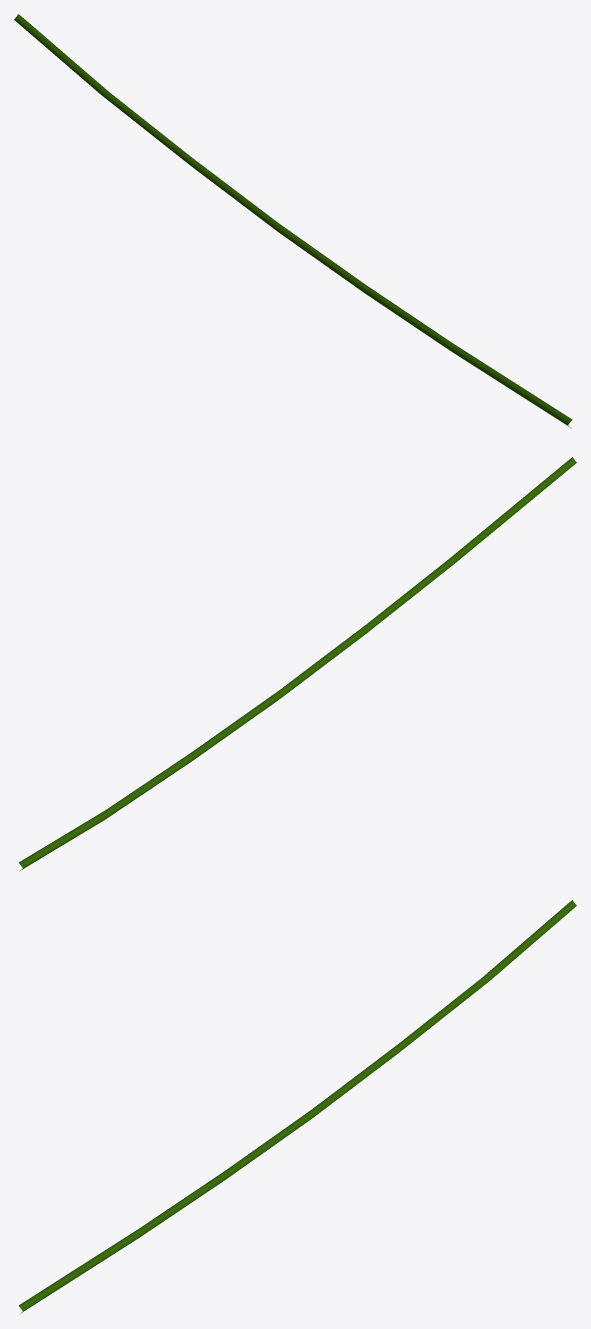
The model's file is WireNight.glb.
3 views of the same model, one above another, from view 1: azimuth 30°, elevation 25°; view 2: azimuth 150°, elevation 25°; view 3: azimuth 330°, elevation 25° (orthographic).
Visible parts, largest first — view 1: WireNight; view 2: WireNight; view 3: WireNight.
Part boxes in pixels (x1=…): WireNight: x1=14, y1=14, x2=572, y2=428; WireNight: x1=18, y1=457, x2=576, y2=871; WireNight: x1=18, y1=900, x2=576, y2=1313.
Size of the model in its own units: 0.0696 by 0.2075 by 7.44.
Materials: 4 (4 with a texture image).
